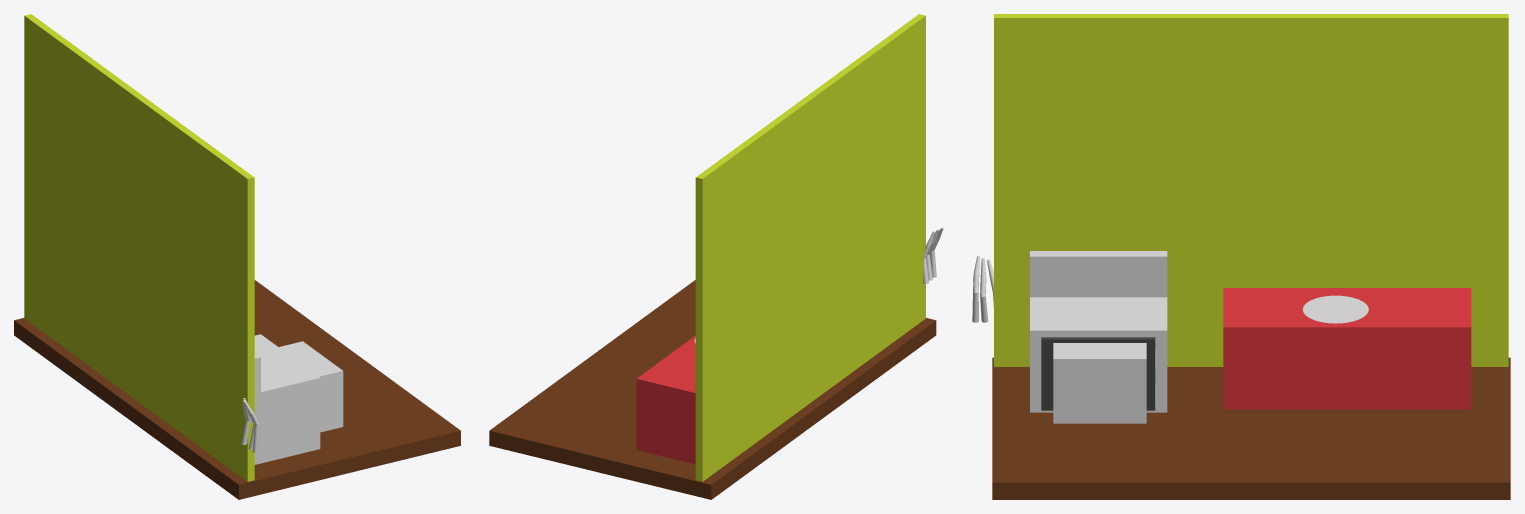
File: Nivel_3.glb
3 views of the same model, side by side, from view 1: azimuth 30°, elevation 25°; view 2: azimuth 150°, elevation 25°; view 3: azimuth 270°, elevation 25° (orthographic). The views are drawn at different scales.
Parts seen in each view (by area): view 1: Plane, Plane.001, Cube, Cube.001; view 2: Plane, Plane.001, Cube.002; view 3: Plane, Plane.001, Cube.002, Cube, Cube.001, Cube.003, Circle.
Part boxes in pixels (x1,y1,x2,y2): Plane: (24, 14, 254, 481); Plane.001: (14, 280, 460, 499); Cube: (254, 334, 320, 464); Cube.001: (279, 341, 343, 432); Plane: (695, 14, 925, 481); Plane.001: (489, 280, 936, 499); Cube.002: (636, 335, 695, 464); Plane: (994, 14, 1508, 366); Plane.001: (992, 357, 1510, 499); Cube.002: (1223, 288, 1471, 409); Cube: (1030, 251, 1167, 412); Cube.001: (1053, 343, 1146, 423); Cube.003: (1041, 337, 1155, 410); Circle: (1302, 295, 1368, 323).
Bounding box in the file's own units: 6.39 × 8.69 × 11.57.
